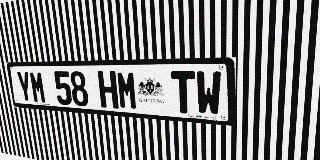5: (54, 71, 73, 105)
8: (69, 71, 89, 107)
H: (97, 71, 119, 109)
M: (116, 71, 138, 110), (29, 71, 47, 104)
T: (171, 71, 196, 114)
W: (196, 71, 221, 116)
Y: (16, 71, 33, 103)
